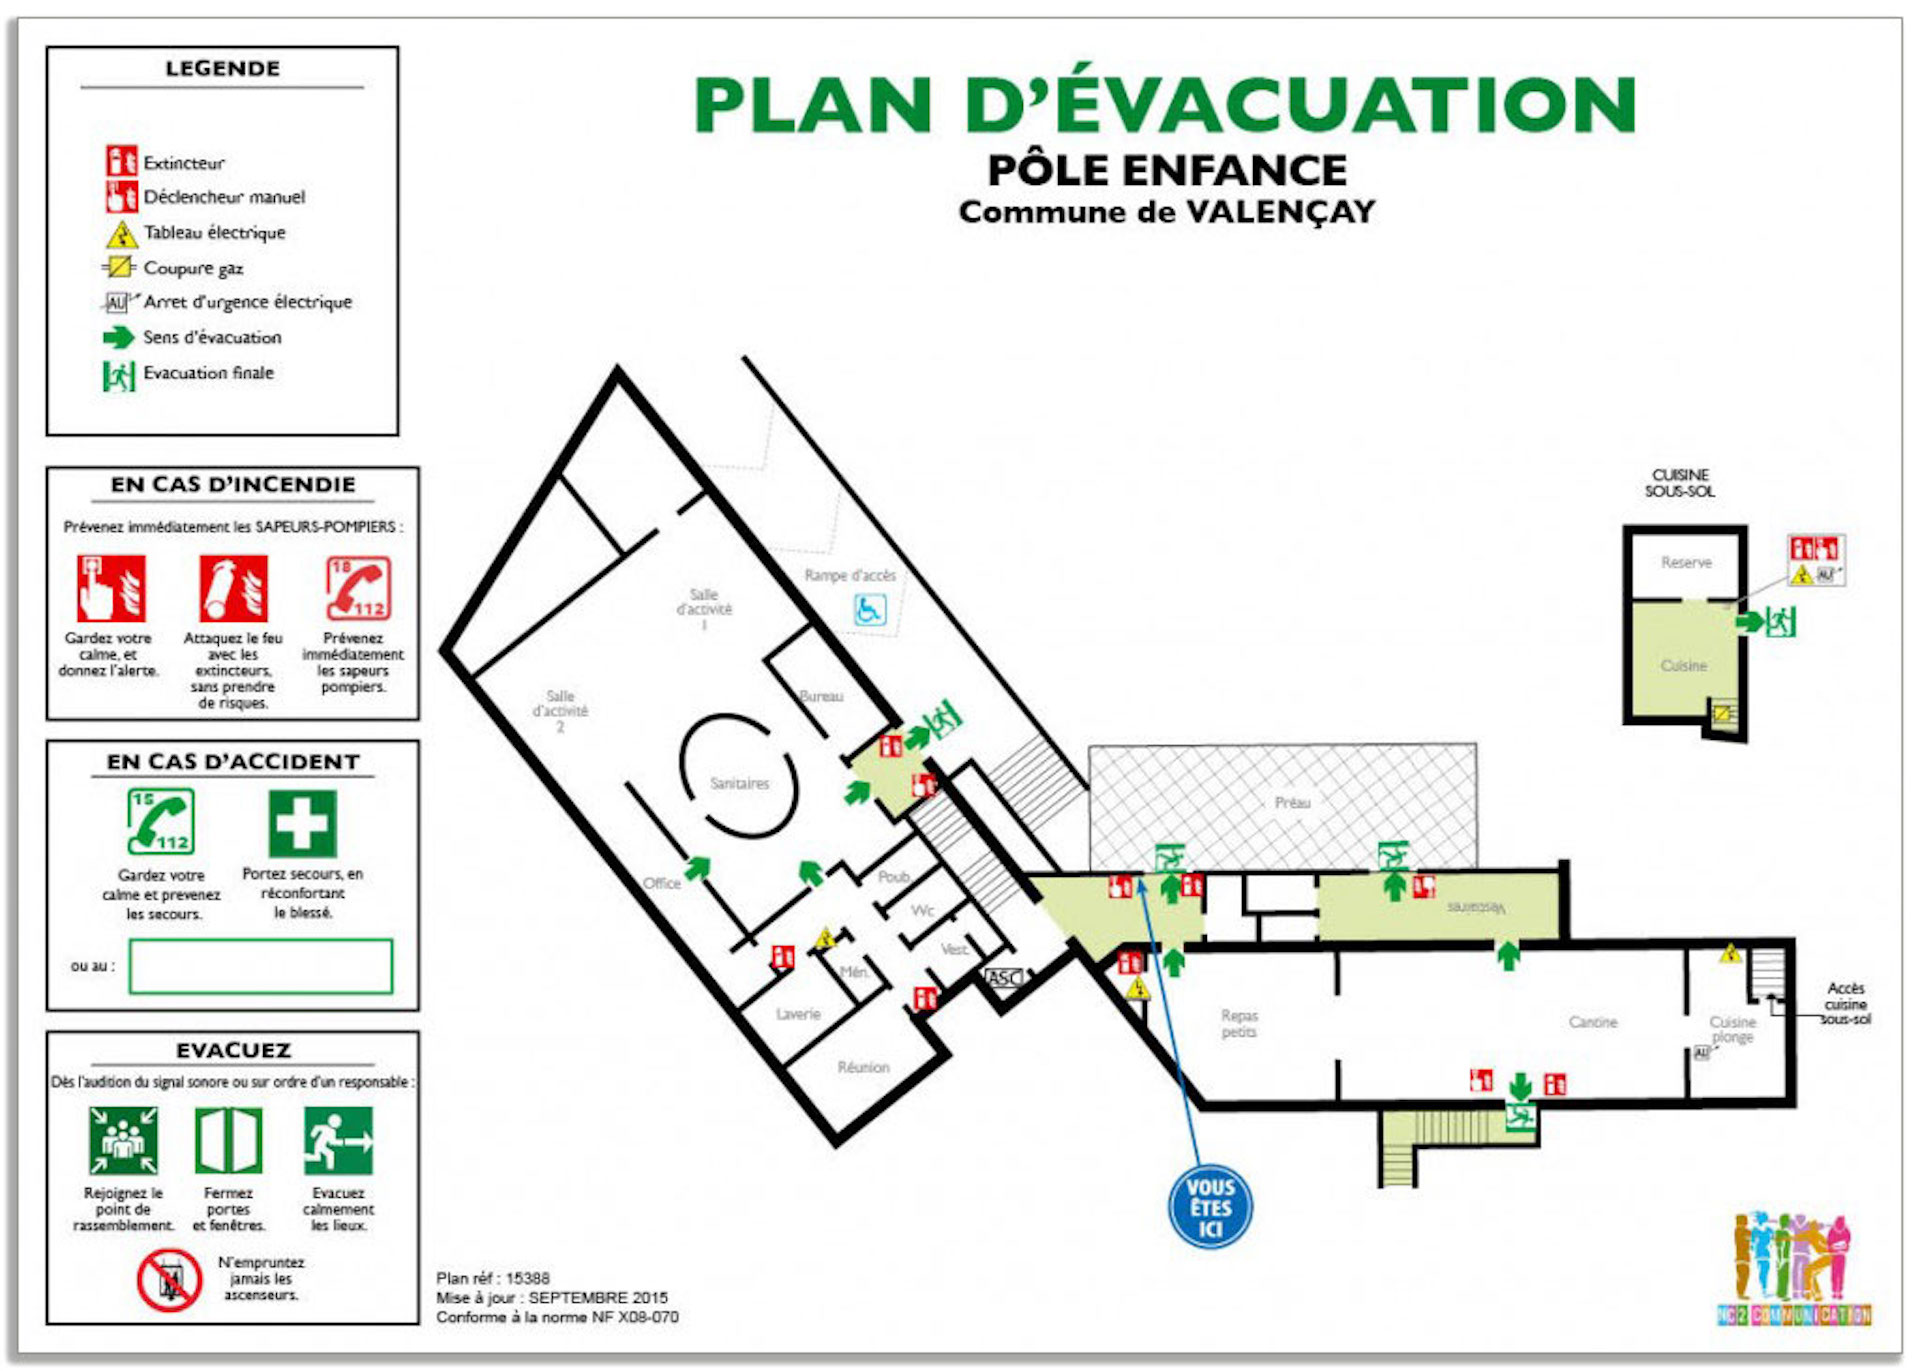legend: (39, 39, 408, 445)
plan: (433, 358, 1881, 1188)
